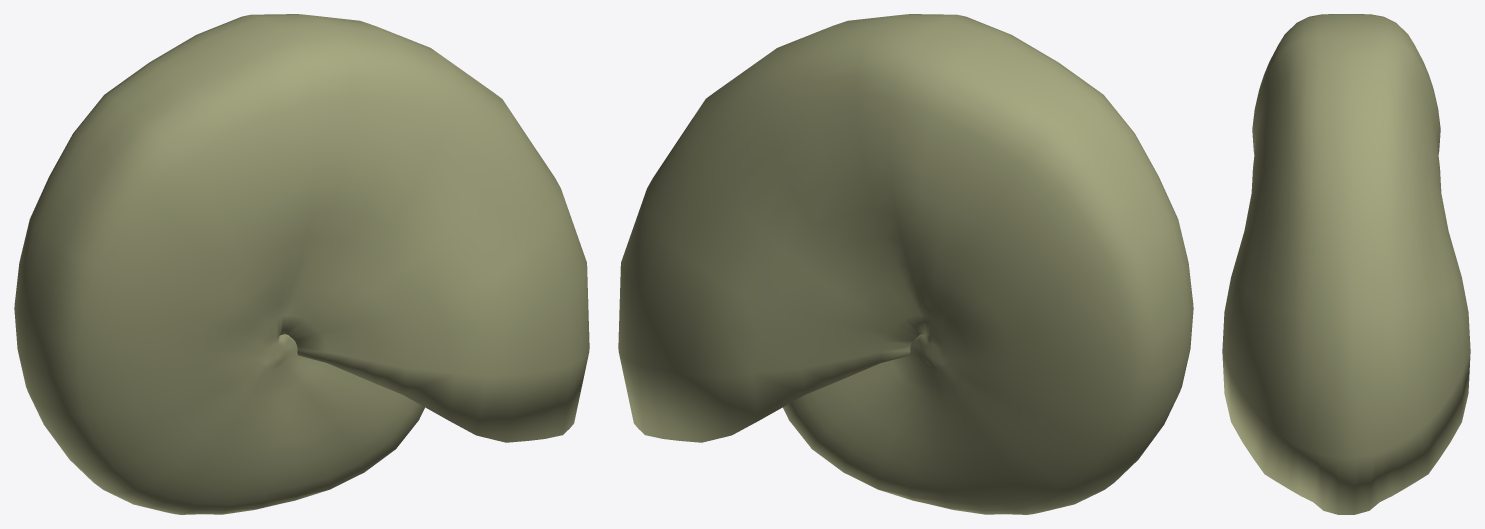
Rendered from shell2.obj.
The picture shows the model from 3 angles, left to right: view 1: azimuth 30°, elevation 25°; view 2: azimuth 150°, elevation 25°; view 3: azimuth 270°, elevation 25°; orthographic projection. The views are drawn at different scales.
Parts seen in each view (by area): view 1: Nautilus_shell; view 2: Nautilus_shell; view 3: Nautilus_shell.
Boxes of the visible parts, <box> form: Nautilus_shell: <box>14,14,589,514</box>; Nautilus_shell: <box>618,14,1193,514</box>; Nautilus_shell: <box>1222,14,1470,514</box>.
Size of what is drawn, in the model's own units: 0.2467 by 0.1976 by 0.1195.
